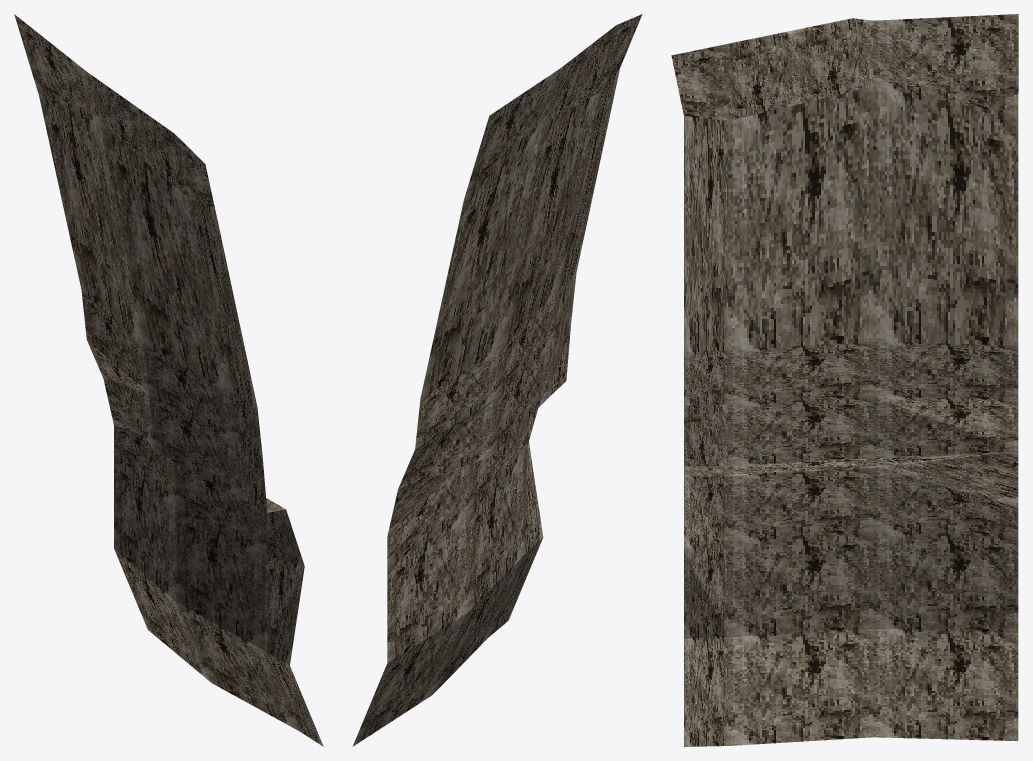
File: lod_land2_sfn04.obj
3 renders of one model, left to right at view 1: azimuth 30°, elevation 25°; view 2: azimuth 150°, elevation 25°; view 3: azimuth 270°, elevation 25°, orthographic. The views are drawn at different scales.
Visible parts, largest first — view 1: lod_land2_sfN04; view 2: lod_land2_sfN04; view 3: lod_land2_sfN04.
Boxes of the visible parts, <box> form: lod_land2_sfN04: <box>14,14,323,746</box>; lod_land2_sfN04: <box>352,14,642,746</box>; lod_land2_sfN04: <box>671,14,1018,746</box>.
Bounding box in the file's own units: 110 × 469 × 223.
Materials: 2 (2 with a texture image).
